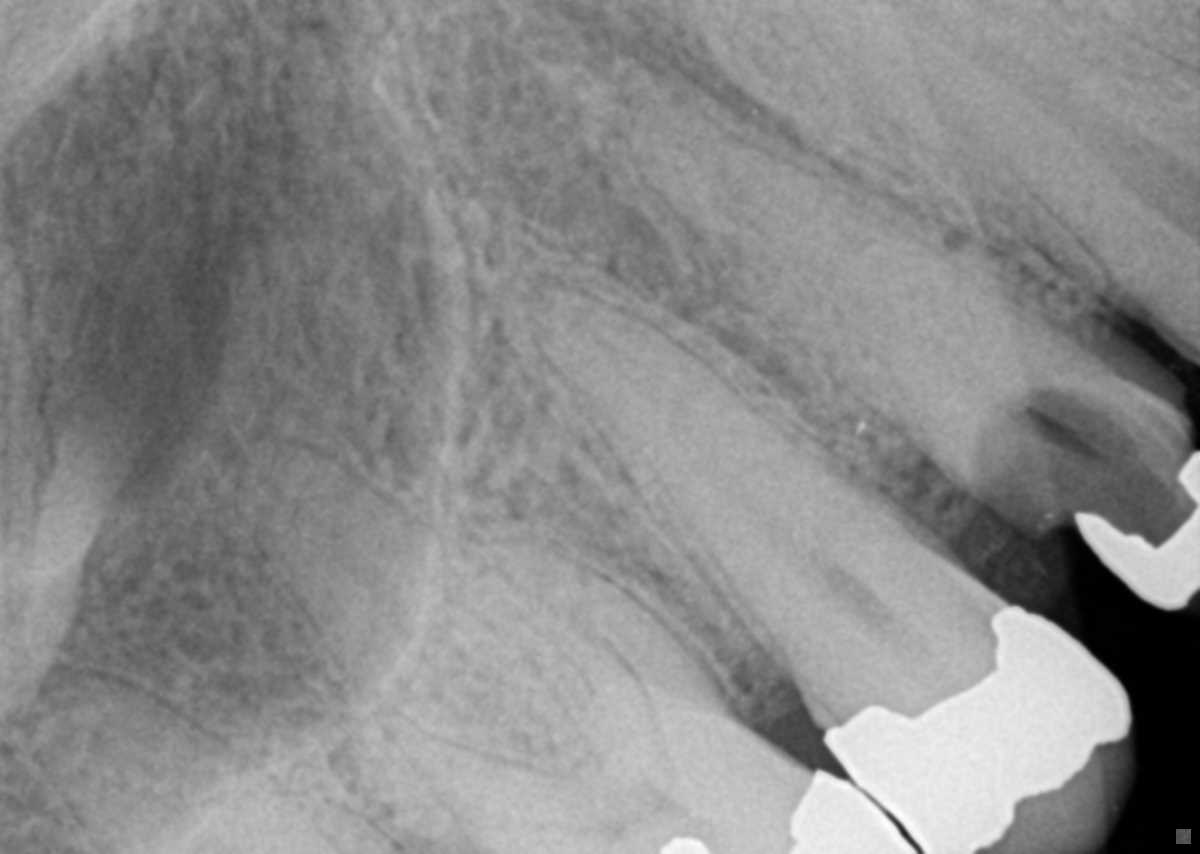Distal Root: (347, 705, 565, 838)
Main Canal: (618, 355, 880, 627), (906, 4, 1197, 229)
Main Root: (525, 278, 940, 683), (629, 104, 1065, 476), (769, 0, 1186, 278), (5, 666, 337, 854)
Mesial Canal: (569, 619, 667, 738)
Mesial Root: (455, 540, 725, 744)
Palatal Root: (236, 433, 659, 839)
decay: (965, 385, 1192, 543)
